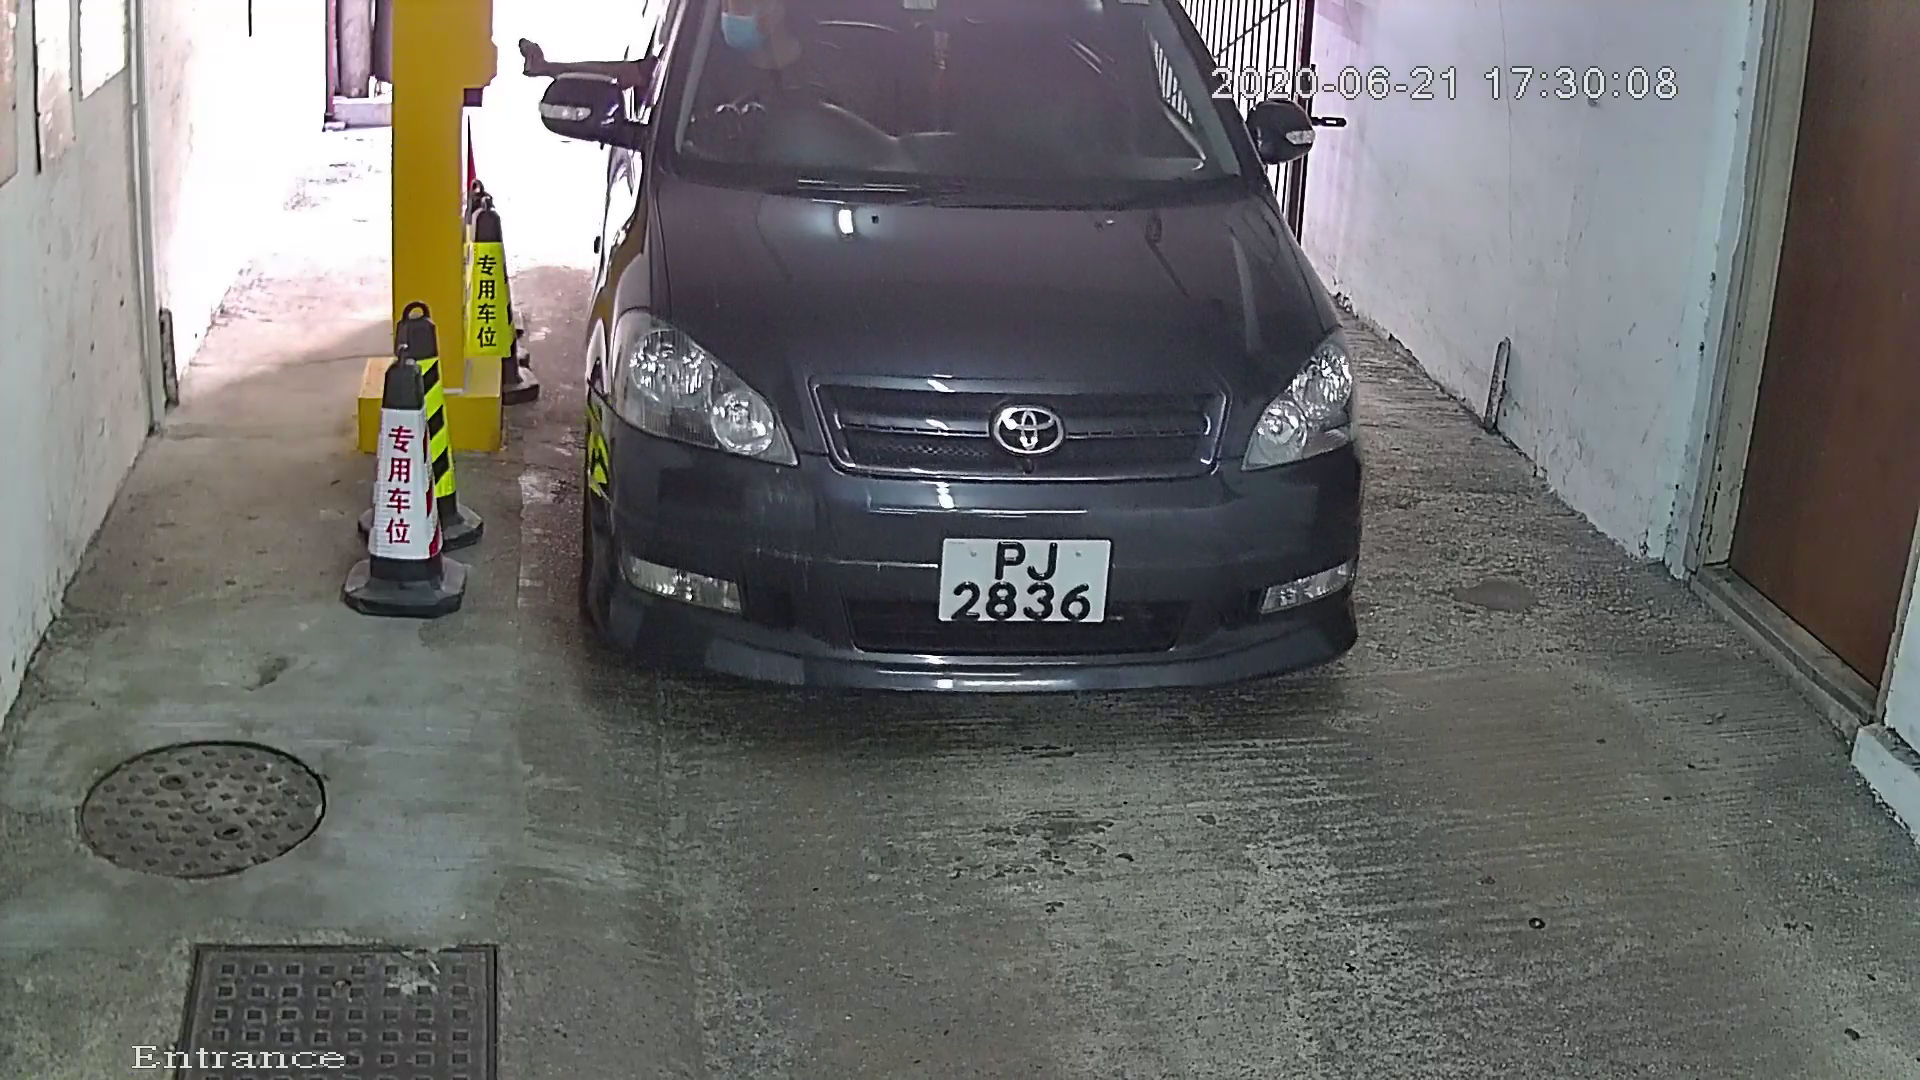privatecar: (505, 1, 1385, 773)
